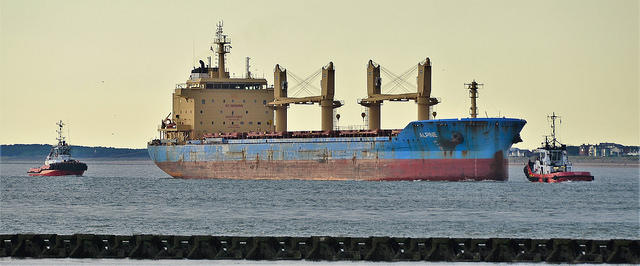bulk carrier: (147, 22, 527, 182)
tug_boat: (525, 116, 597, 187), (24, 135, 110, 185)
